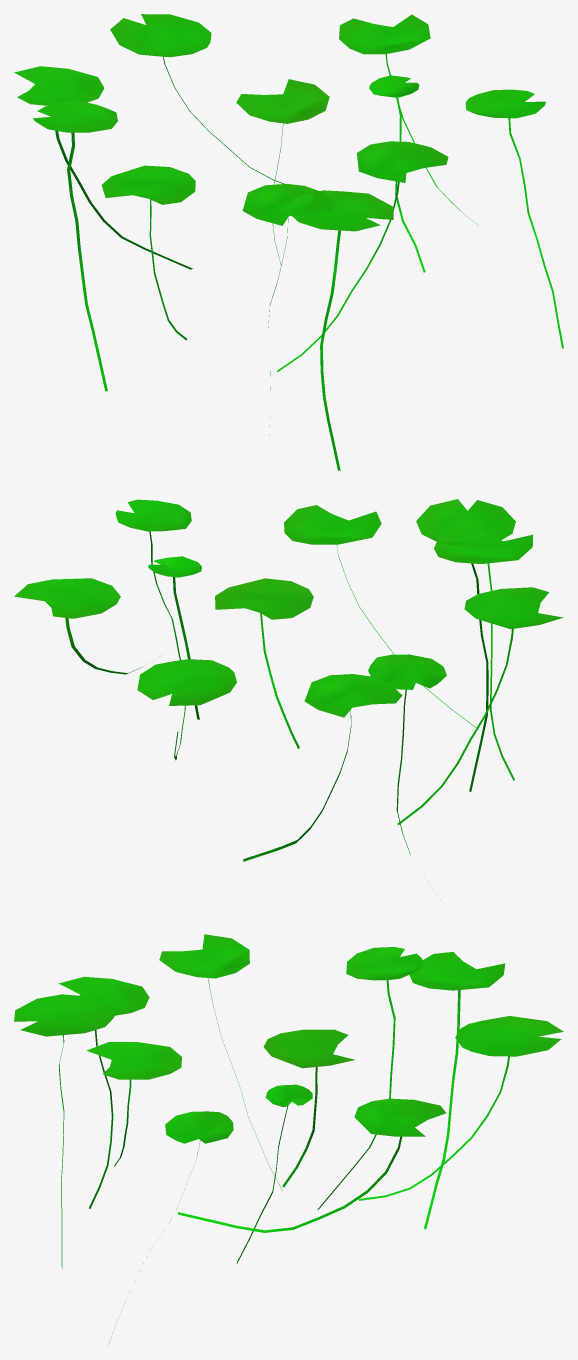
The model's file is SM_Fleur02_eau.fbx.
3 views of the same model, one above another, from view 1: azimuth 30°, elevation 25°; view 2: azimuth 150°, elevation 25°; view 3: azimuth 270°, elevation 25° (orthographic). The views are drawn at different scales.
Visible parts, largest first — view 1: _a998_Var2_LOD1; view 2: _a998_Var2_LOD1; view 3: _a998_Var2_LOD1.
Part boxes in pixels (x1=…): _a998_Var2_LOD1: x1=14, y1=14, x2=563, y2=470; _a998_Var2_LOD1: x1=14, y1=499, x2=563, y2=861; _a998_Var2_LOD1: x1=14, y1=934, x2=563, y2=1344.
Size of the model in its own units: 121 by 69.93 by 134.
